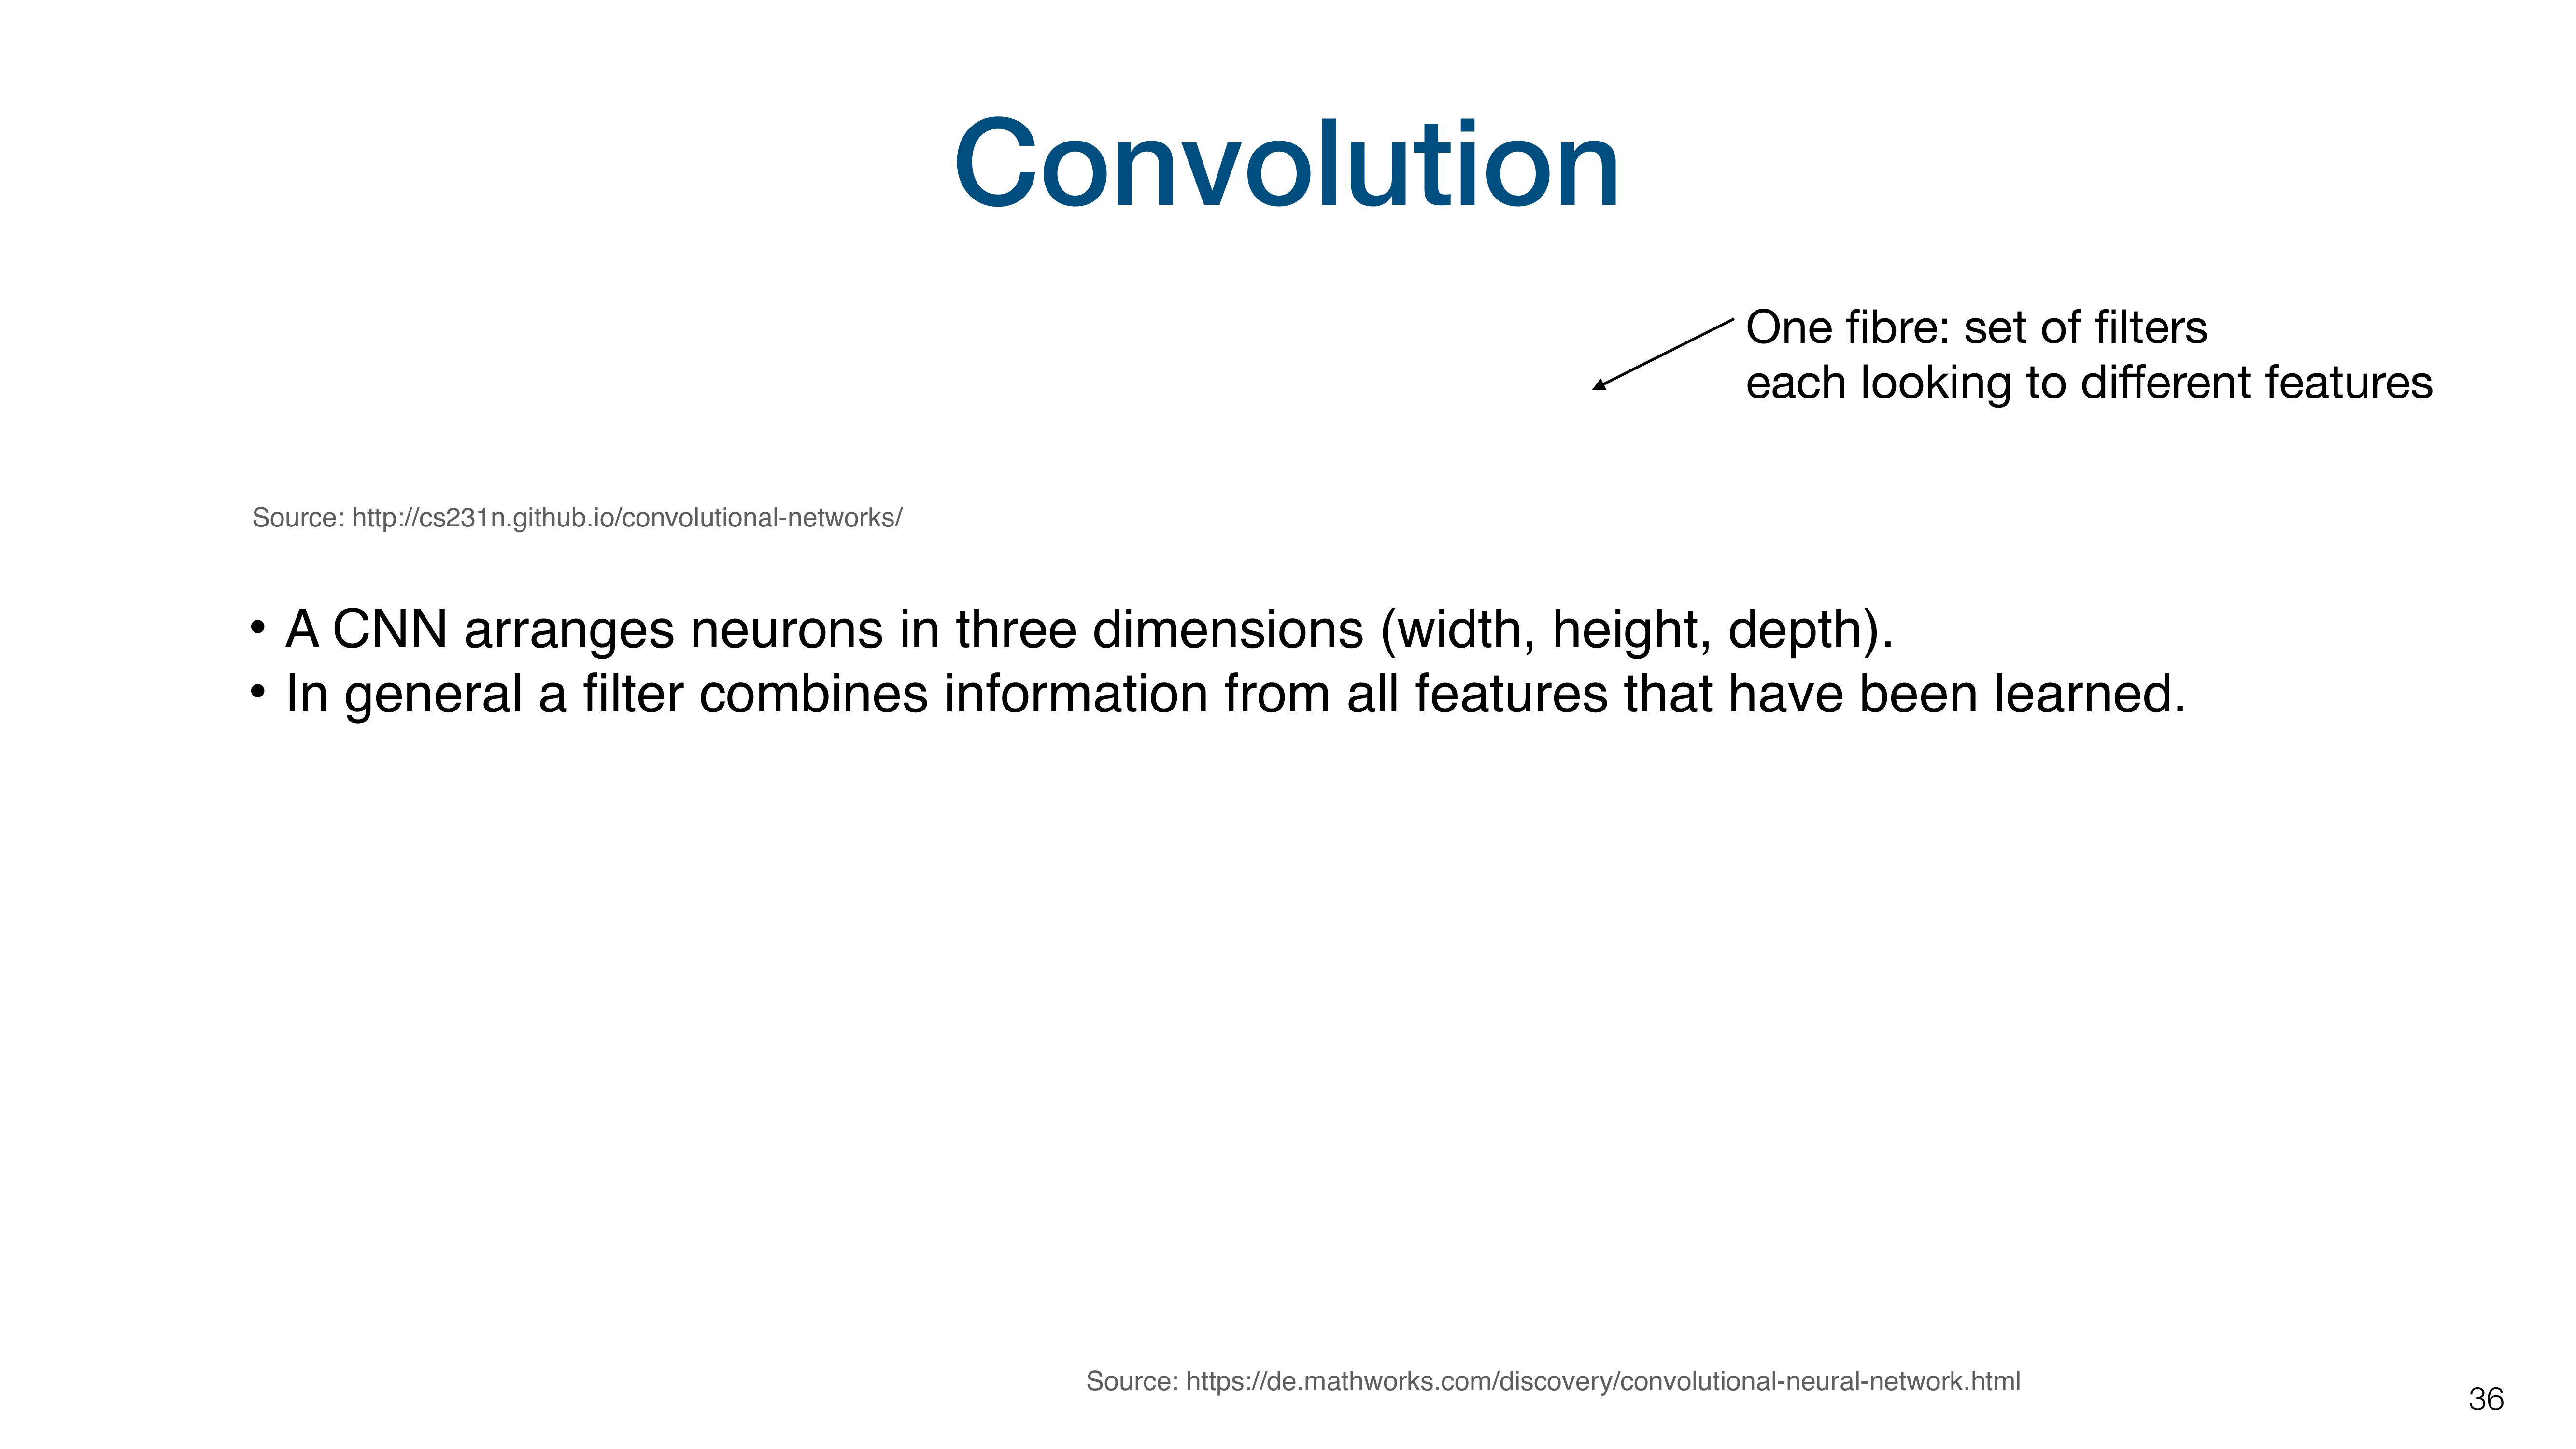Title: (939, 103, 1642, 242)
